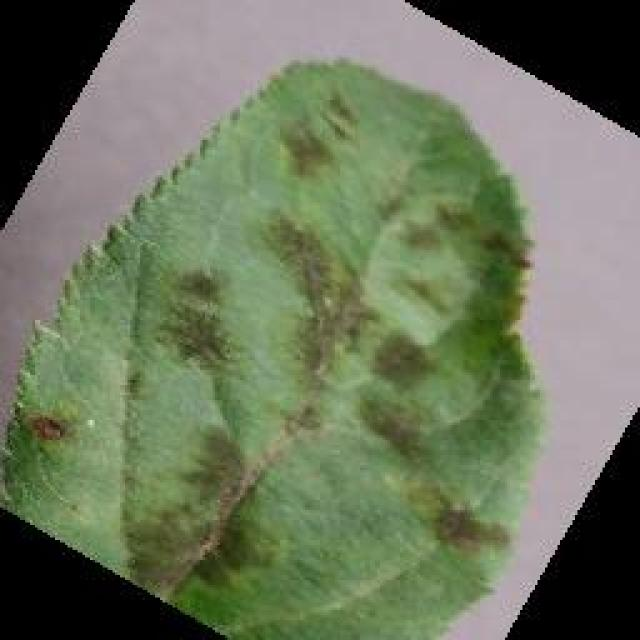apple scab disease: (0, 52, 548, 638)
